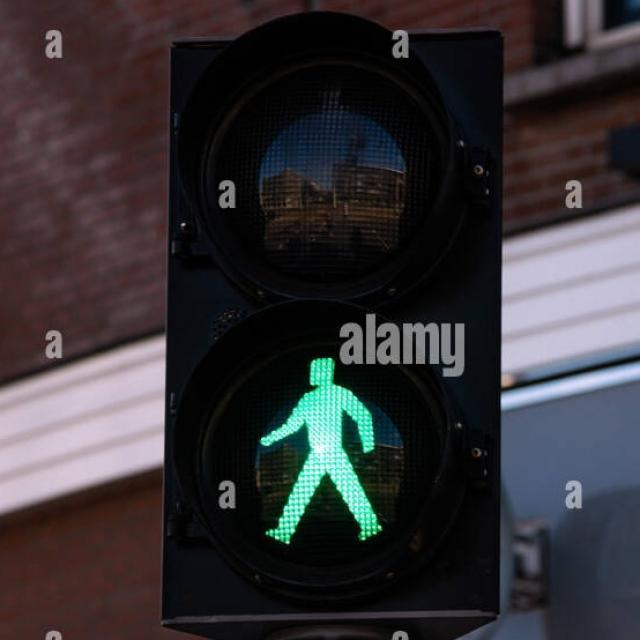geen-crossing: (261, 357, 374, 551)
